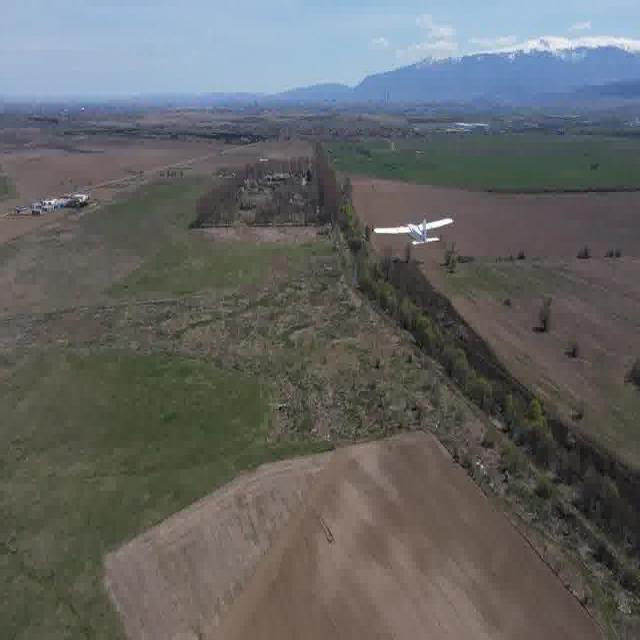iha: (402, 211, 426, 257)
